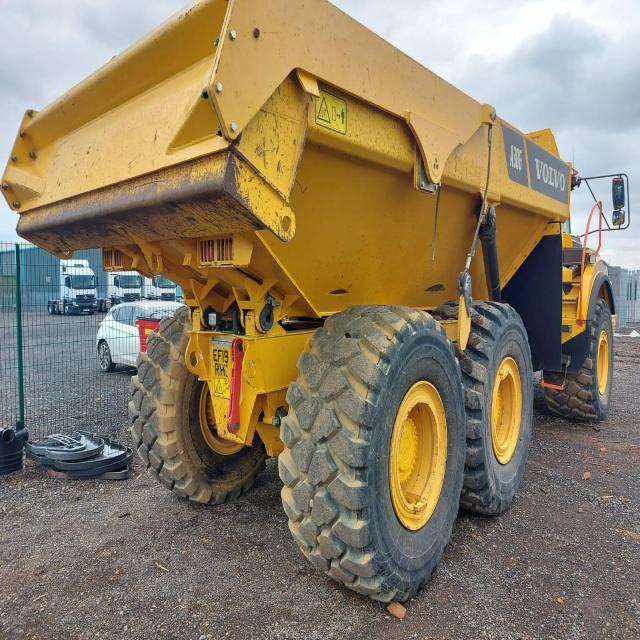dump_truck: (7, 2, 625, 605)
